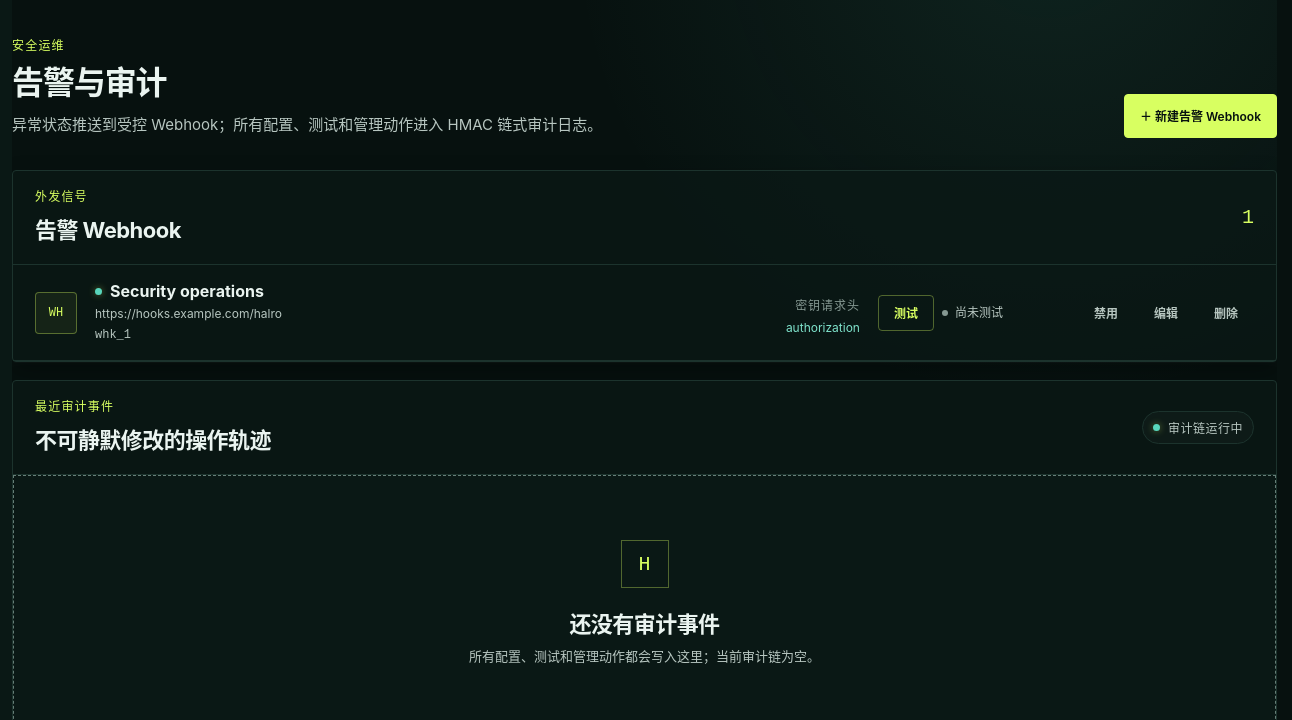
Test: operations page › says how a webhook delivery test failed and what the endpoint answered
Click the button "测试": [906, 313] box [878,295,934,331]
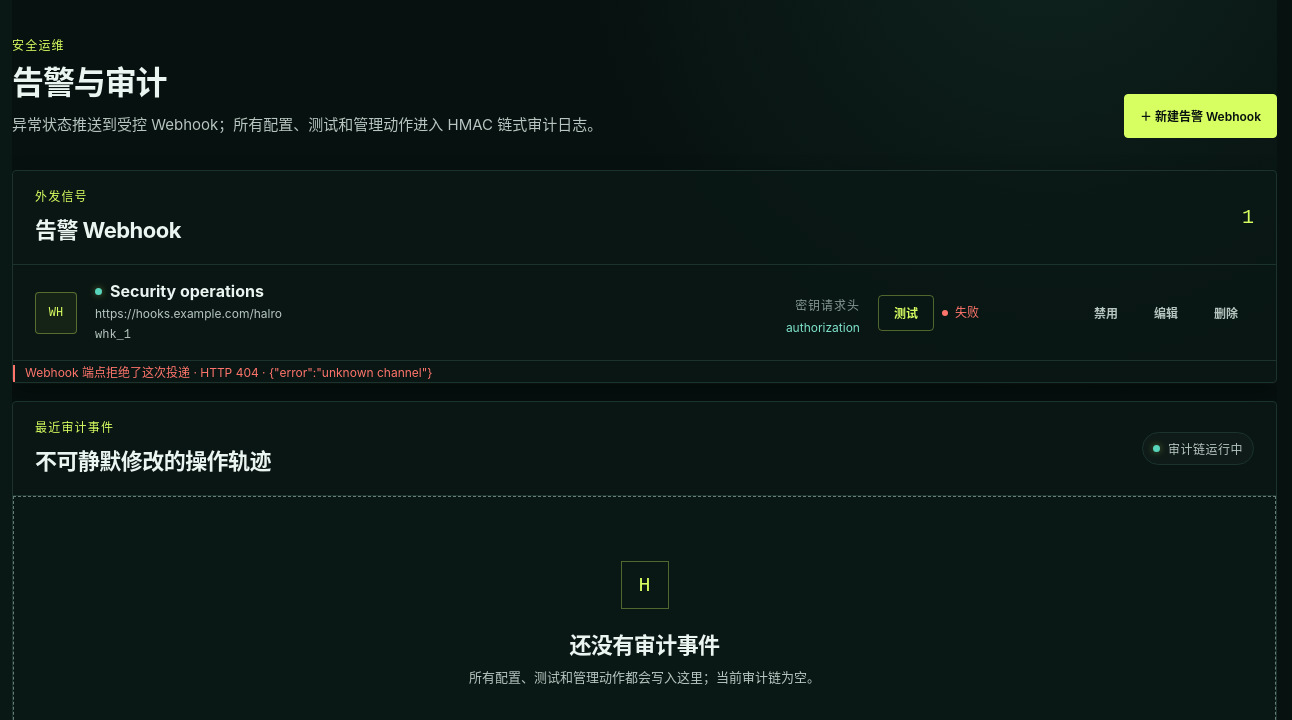
expect the text "Webhook 端点拒绝了这次投递 · HTTP 404 · {\"error\":\"unknown channel\"}" is shown: met, box [13,365,749,382]
